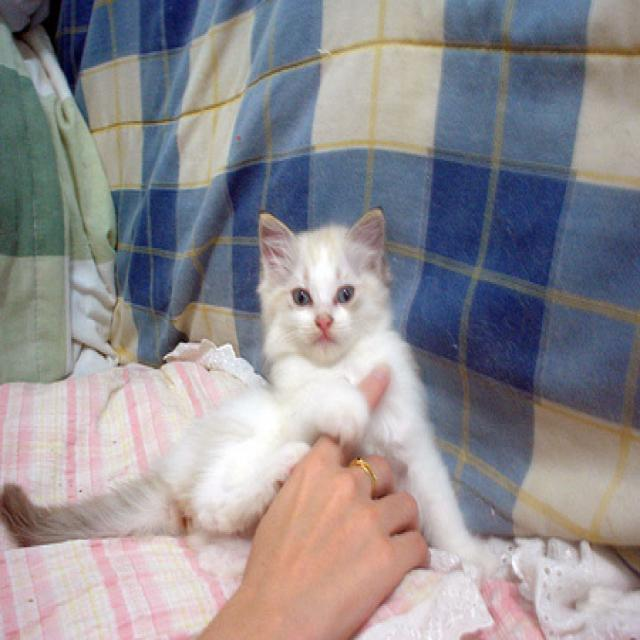Ragdoll: (0, 197, 482, 581)
